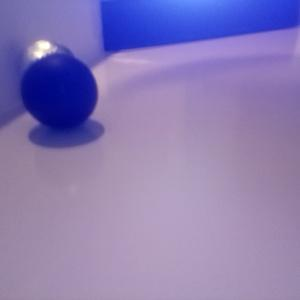alive_ball: (18, 40, 74, 97)
dead_ball: (22, 53, 98, 129)
